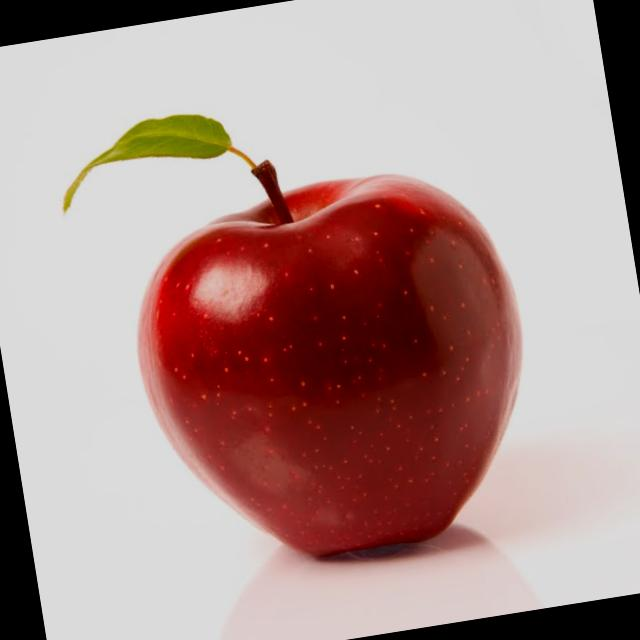apple: (105, 153, 562, 606)
